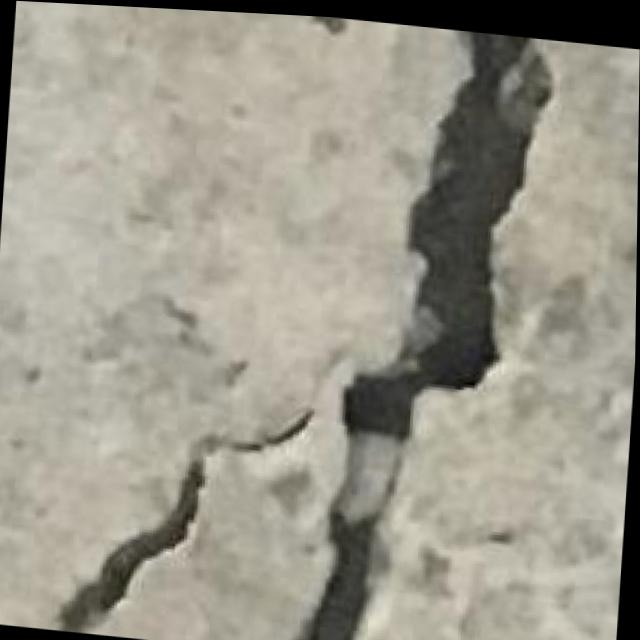Crack: (24, 1, 640, 640)
